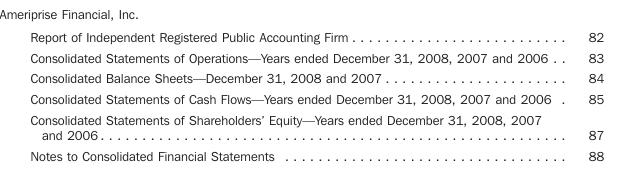table: (29, 28, 603, 162)
table column: (29, 28, 569, 162), (569, 28, 603, 162)
table row: (29, 108, 603, 144), (29, 46, 603, 67), (29, 87, 603, 108), (29, 67, 603, 87), (29, 28, 603, 46), (29, 144, 603, 162)
